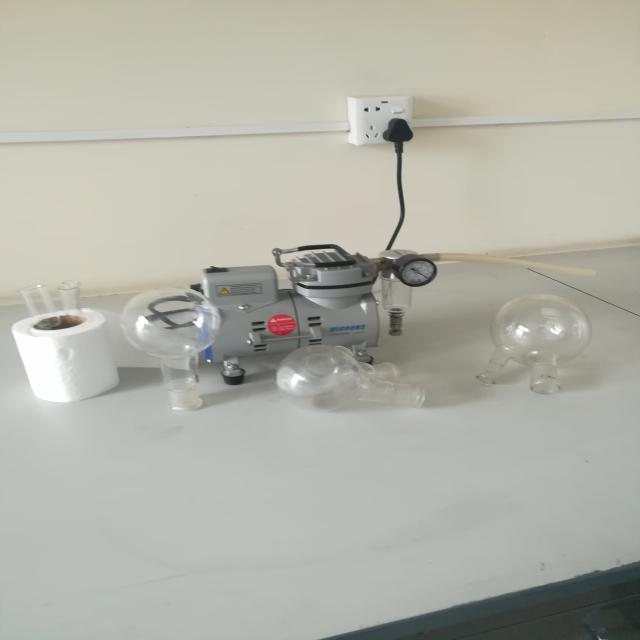Round_Bottom_Flask_Borosilicate_Glass_1_Neck: (99, 257, 244, 432)
Round_Bottom_Flask_Borosilicate_Glass_2_Neck: (465, 288, 607, 414)
Round_Bottom_Flask_Borosilicate_Glass_3_Neck: (269, 326, 430, 424)
